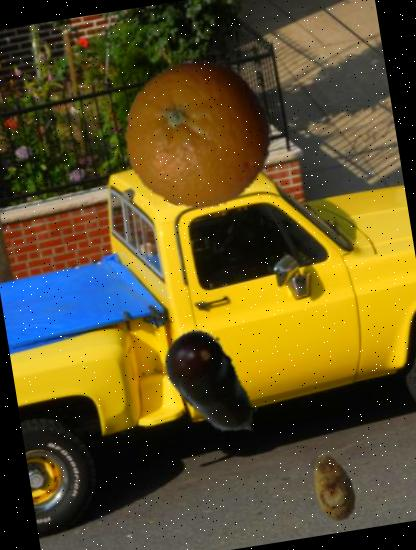Eggplant: (142, 314, 284, 457)
Ginger: (294, 448, 373, 527)
Orange: (116, 50, 286, 220)
